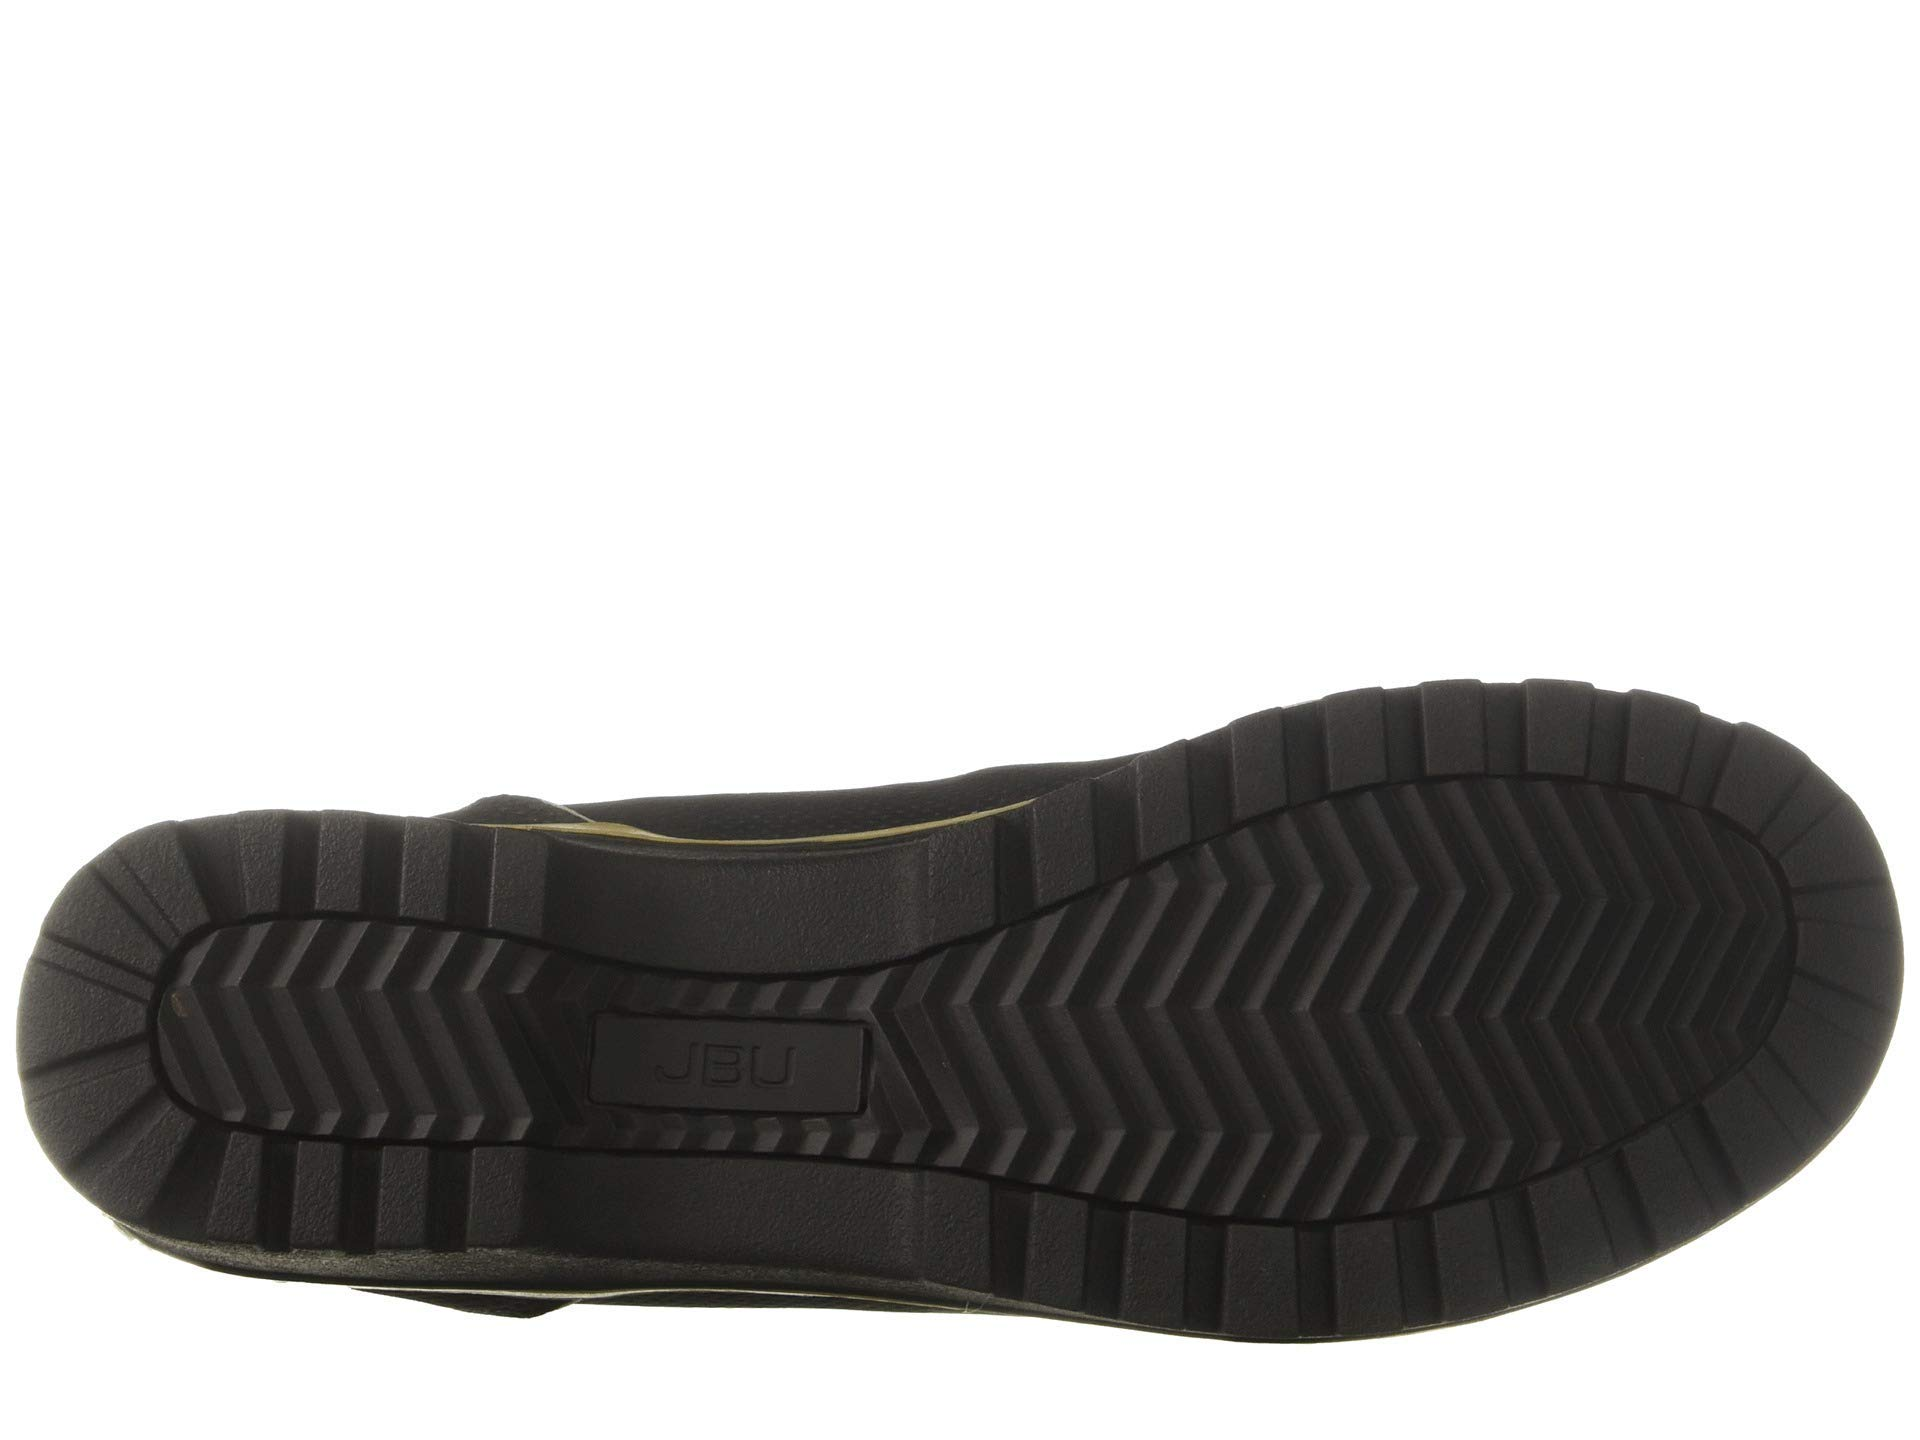chevron: (1134, 924, 1453, 1249), (242, 905, 425, 1107)
line: (1473, 656, 1742, 902)
quad: (1473, 656, 1742, 902)
